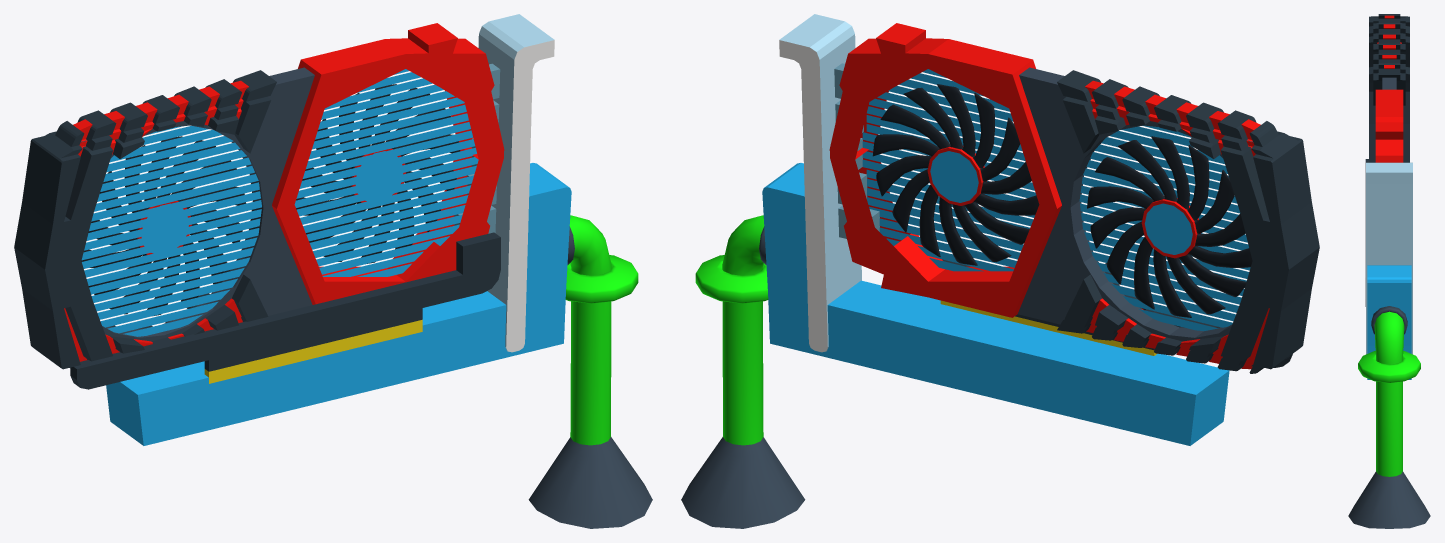
The model's file is Fan_2.fbx.
The picture shows the model from 3 angles, left to right: view 1: azimuth 30°, elevation 25°; view 2: azimuth 150°, elevation 25°; view 3: azimuth 270°, elevation 25°; orthographic projection. The views are drawn at different scales.
Parts seen in each view (by area): view 1: Fan_2_machine, Fan_2_statictable, Fan_2_staticstick, Green_pipe, Green_pipe_funnel, Fan_2, Fan_2.1, Green_pipe_circle; view 2: Fan_2_machine, Fan_2_statictable, Fan_2, Fan_2.1, Fan_2_staticstick, Green_pipe, Green_pipe_funnel, Green_pipe_circle; view 3: Fan_2_machine, Fan_2_staticstick, Green_pipe, Green_pipe_funnel, Fan_2_statictable, Green_pipe_circle.
Boxes of the visible parts, bbox=[...] form: Fan_2_machine: bbox=[14, 23, 504, 389]; Fan_2_statictable: bbox=[106, 163, 571, 445]; Fan_2_staticstick: bbox=[454, 14, 554, 352]; Green_pipe: bbox=[567, 215, 611, 445]; Green_pipe_funnel: bbox=[528, 437, 652, 528]; Fan_2: bbox=[81, 136, 246, 315]; Fan_2.1: bbox=[296, 84, 460, 263]; Green_pipe_circle: bbox=[565, 255, 638, 303]; Fan_2_machine: bbox=[829, 23, 1319, 373]; Fan_2_statictable: bbox=[762, 163, 1229, 445]; Fan_2: bbox=[1087, 136, 1252, 317]; Fan_2.1: bbox=[872, 84, 1039, 265]; Fan_2_staticstick: bbox=[779, 14, 879, 352]; Green_pipe: bbox=[722, 215, 766, 445]; Green_pipe_funnel: bbox=[681, 437, 805, 528]; Green_pipe_circle: bbox=[695, 255, 768, 303]; Fan_2_machine: bbox=[1365, 14, 1409, 306]; Fan_2_staticstick: bbox=[1366, 162, 1412, 354]; Green_pipe: bbox=[1371, 306, 1407, 476]; Green_pipe_funnel: bbox=[1348, 471, 1430, 528]; Fan_2_statictable: bbox=[1367, 265, 1411, 379]; Green_pipe_circle: bbox=[1358, 351, 1420, 382].
Bounding box in the file's own units: 1.57 × 1.24 × 0.2756.
